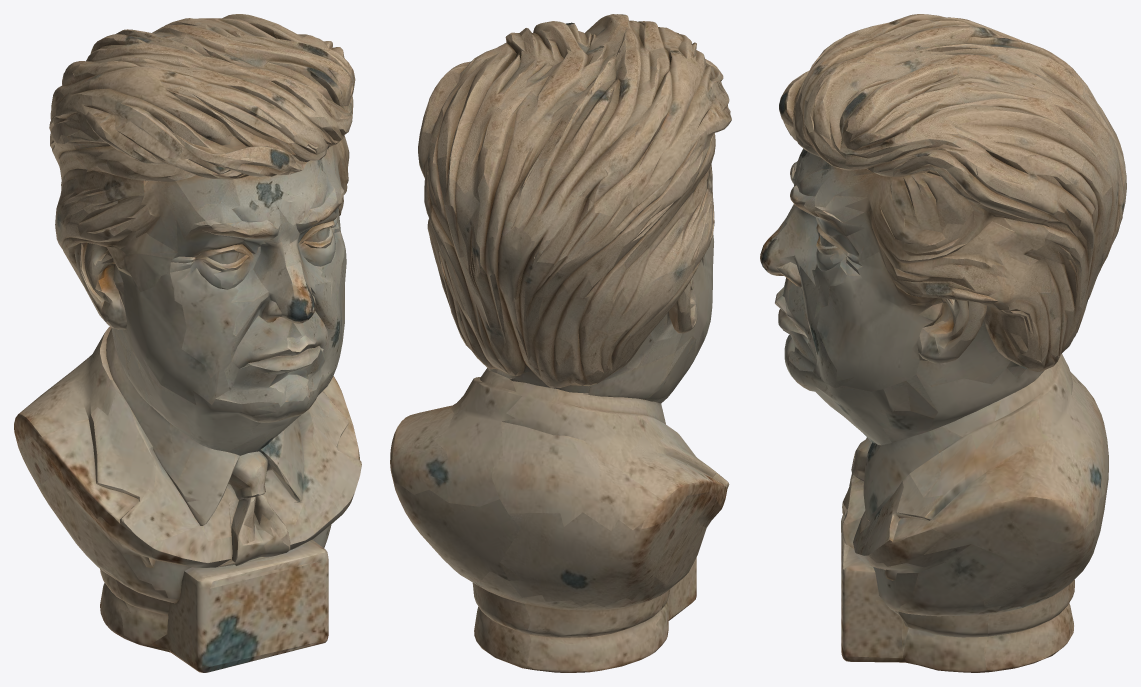
Rendered from trump.glb.
3 renders of one model, left to right at view 1: azimuth 30°, elevation 25°; view 2: azimuth 150°, elevation 25°; view 3: azimuth 270°, elevation 25°, orthographic. The views are drawn at different scales.
Parts seen in each view (by area): view 1: Mesh_0; view 2: Mesh_0; view 3: Mesh_0.
Part boxes in pixels (box(x1,y1,x2,y2)): Mesh_0: box(14, 14, 361, 672); Mesh_0: box(390, 14, 731, 672); Mesh_0: box(760, 14, 1126, 672).
Size of the model in its own units: 0.9762 by 1.9 by 1.09.
Materials: 1 (1 with a texture image).
